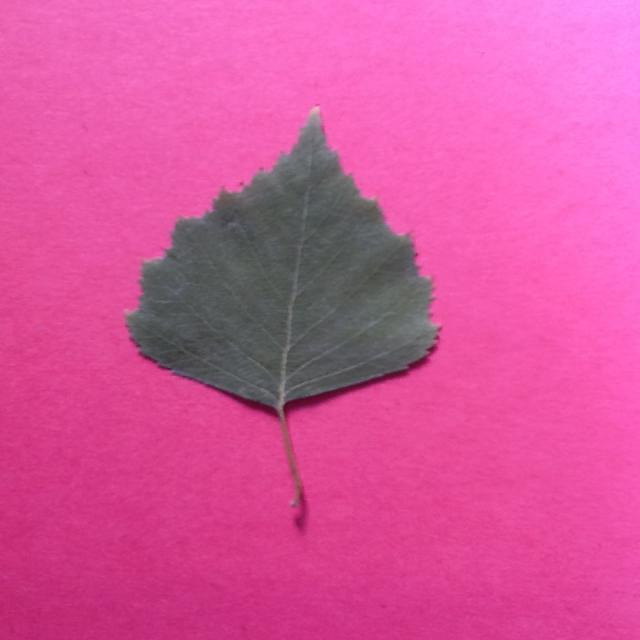foliage: (118, 105, 452, 512)
